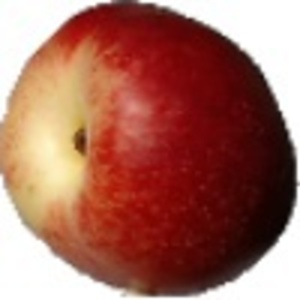nectarina: (1, 1, 299, 299)
